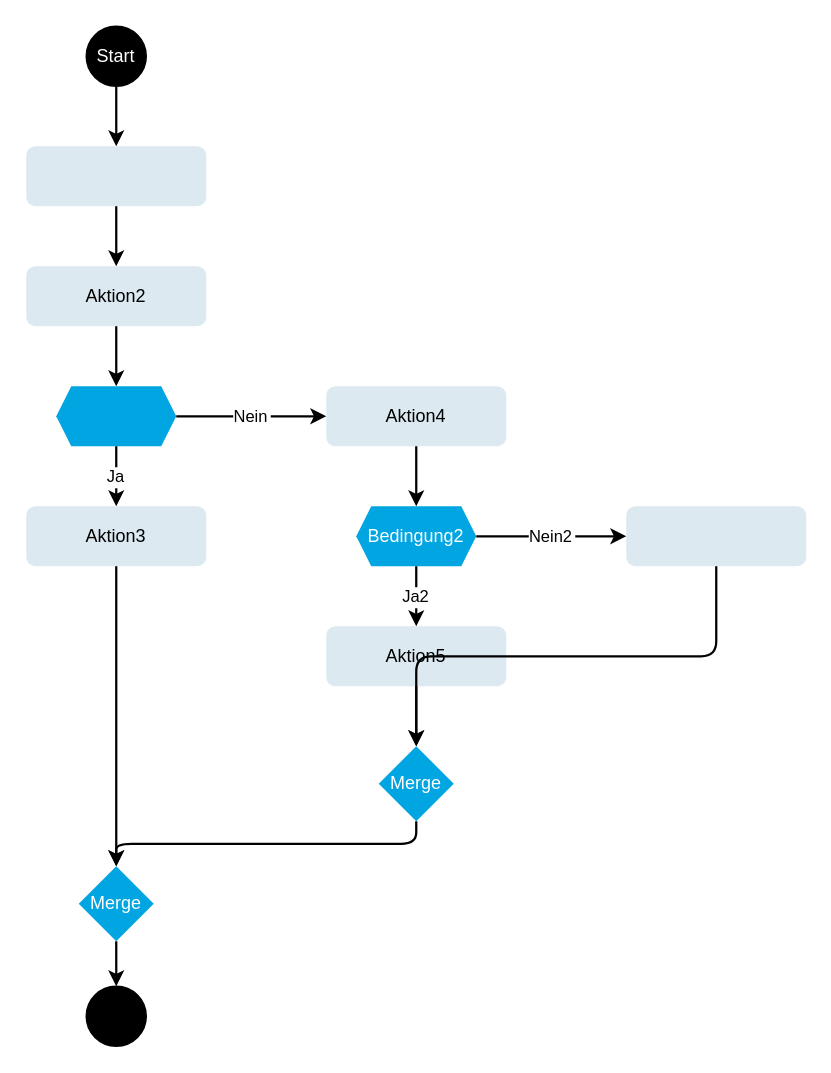
This 831x1073 diagram has some shape labels left out. The centre of each missing label's shape, as x and y in pixels:
Aktion: point (116, 176)
Aktion6: point (716, 536)
Bedingung: point (116, 416)
Stop: point (115, 1015)
